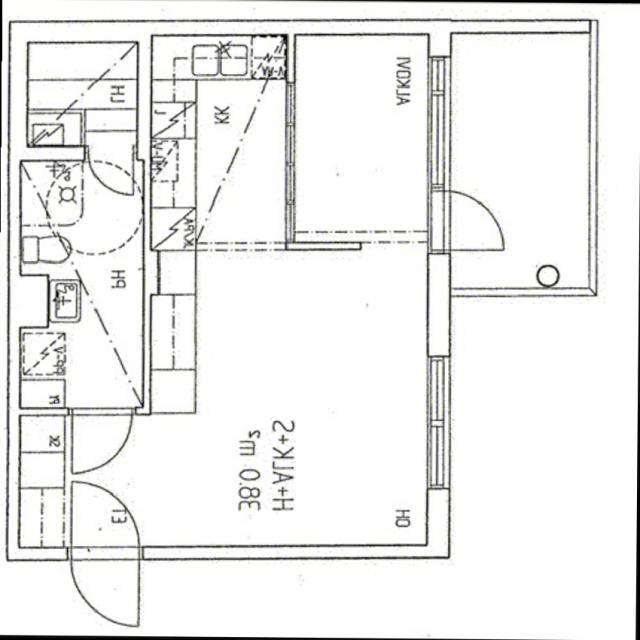door: (70, 547, 139, 628), (70, 479, 139, 560), (428, 190, 512, 251), (72, 407, 132, 473), (88, 146, 134, 198)
